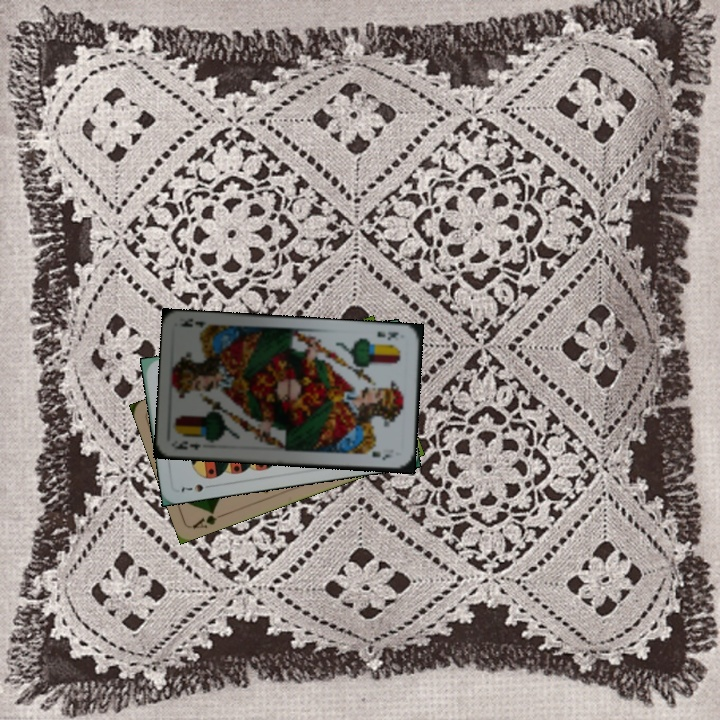EK: (170, 437, 203, 453), (372, 327, 401, 343)
GA: (189, 506, 228, 531)
S7: (177, 480, 216, 495)
